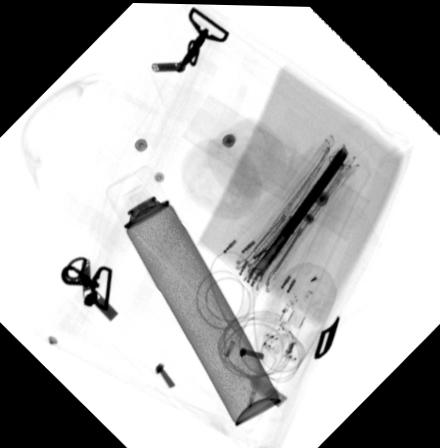Sprayer: (103, 160, 284, 424)
